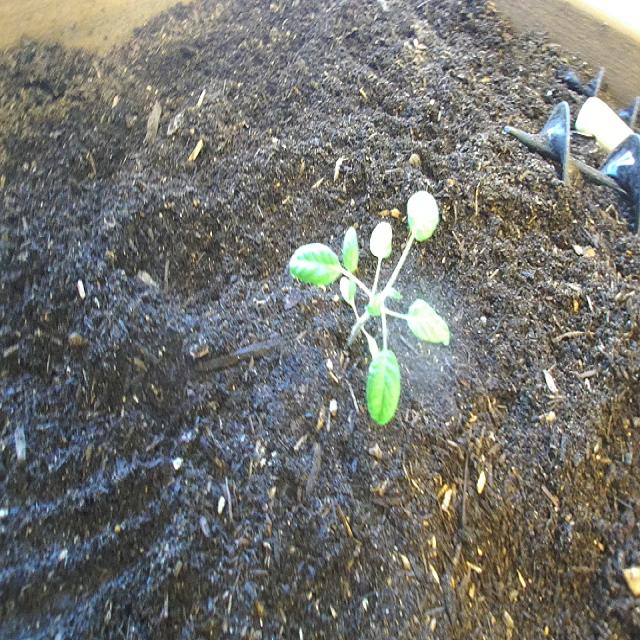Healthy: (286, 184, 458, 435)
